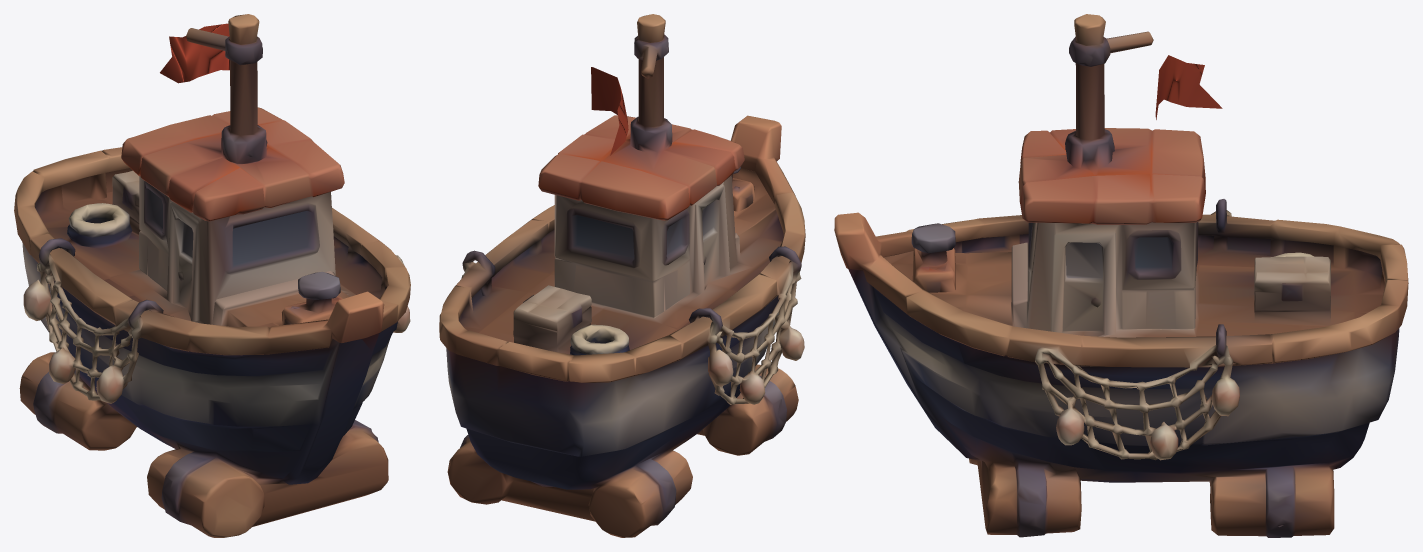
The model's file is boat-CvEgVeS2.glb.
3 views of the same model, side by side, from view 1: azimuth 30°, elevation 25°; view 2: azimuth 150°, elevation 25°; view 3: azimuth 270°, elevation 25° (orthographic). The views are drawn at different scales.
Visible parts, largest first — view 1: tripo_node_6e42ac68-77ce-4c0c-8640-0b37153b1eb9; view 2: tripo_node_6e42ac68-77ce-4c0c-8640-0b37153b1eb9; view 3: tripo_node_6e42ac68-77ce-4c0c-8640-0b37153b1eb9.
Part boxes in pixels (x1,y1,x2,y2): tripo_node_6e42ac68-77ce-4c0c-8640-0b37153b1eb9: (14,14,410,537); tripo_node_6e42ac68-77ce-4c0c-8640-0b37153b1eb9: (439,14,805,537); tripo_node_6e42ac68-77ce-4c0c-8640-0b37153b1eb9: (834,14,1408,537).
Size of the model in its own units: 0.6415 by 0.8965 by 0.9796.
